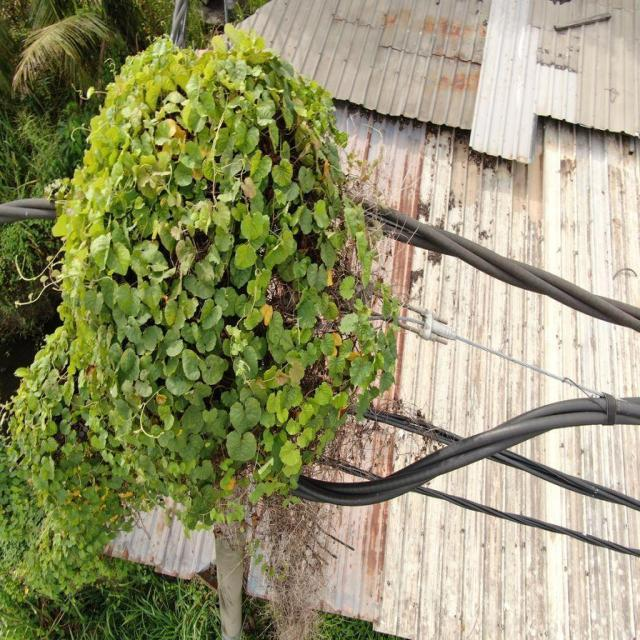critical vegetation: (55, 19, 406, 573)
